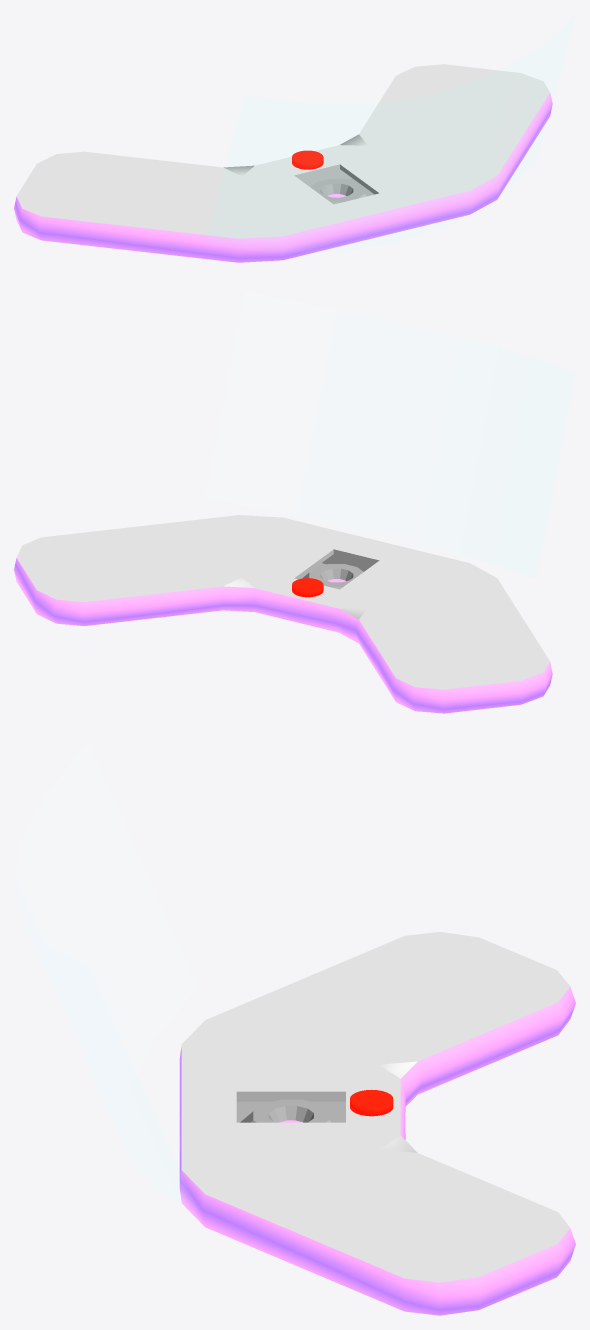
The model's file is Desk(1).fbx.
The picture shows the model from 3 angles, top to bottom: view 1: azimuth 30°, elevation 25°; view 2: azimuth 150°, elevation 25°; view 3: azimuth 270°, elevation 25°; orthographic projection. The views are drawn at different scales.
Parts seen in each view (by area): view 1: Desk.001, Desk trapdoor L.001, Desk trapdoor R.001, Cylinder.002, Cylinder.003; view 2: Desk.001, Desk trapdoor L.001, Desk trapdoor R.001, Cylinder.002, Cylinder.003; view 3: Desk.001, Desk trapdoor R.001, Desk trapdoor L.001, Cylinder.002, Cylinder.003, Cube.001.
Boxes of the visible parts, x1,y1,x2,y2 form: Desk.001: [14, 64, 552, 262]; Desk trapdoor L.001: [340, 154, 421, 194]; Desk trapdoor R.001: [252, 175, 333, 214]; Cylinder.002: [310, 179, 372, 204]; Cylinder.003: [292, 150, 323, 169]; Desk.001: [14, 515, 552, 713]; Desk trapdoor L.001: [251, 543, 333, 579]; Desk trapdoor R.001: [340, 560, 421, 598]; Cylinder.002: [302, 564, 363, 589]; Cylinder.003: [292, 578, 323, 597]; Desk.001: [179, 931, 575, 1315]; Desk trapdoor R.001: [236, 1063, 345, 1098]; Desk trapdoor L.001: [236, 1122, 345, 1151]; Cylinder.002: [240, 1099, 342, 1122]; Cylinder.003: [350, 1089, 393, 1116]; Cube.001: [236, 1101, 345, 1122].
Size of the model in its own units: 230 by 86.62 by 154.
